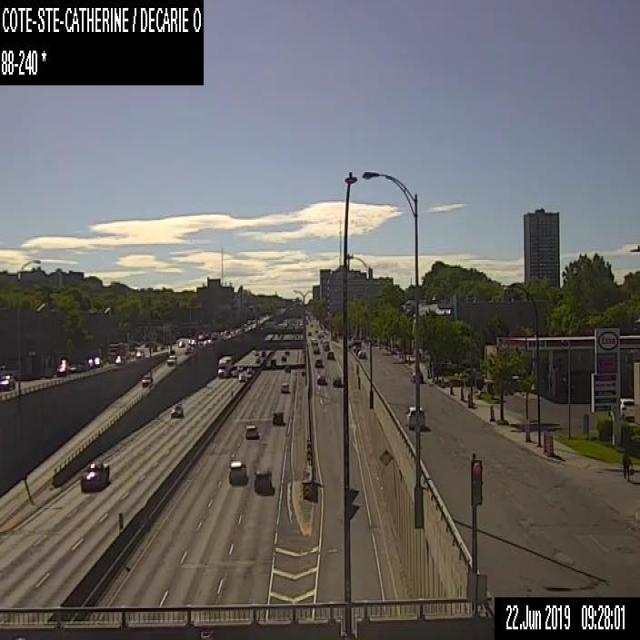pedestrian: (622, 452, 631, 480)
vehicle: (80, 461, 109, 492), (253, 466, 271, 493), (404, 405, 424, 428), (228, 461, 245, 483), (217, 356, 231, 378), (620, 398, 634, 418), (0, 374, 15, 390), (54, 360, 68, 376), (245, 424, 257, 439), (410, 368, 422, 382), (170, 404, 183, 416), (272, 410, 283, 424), (141, 372, 151, 386), (134, 348, 146, 359), (115, 352, 127, 363), (352, 339, 361, 352), (166, 354, 177, 364), (280, 381, 289, 392), (332, 376, 341, 386), (314, 357, 322, 367), (316, 374, 325, 382), (357, 350, 366, 358), (322, 338, 329, 348), (310, 338, 318, 346), (238, 372, 245, 381), (177, 340, 185, 347), (326, 351, 334, 358), (312, 345, 319, 353), (231, 370, 238, 377), (270, 358, 276, 366), (284, 364, 290, 372), (254, 356, 260, 362), (322, 343, 328, 349), (246, 367, 252, 372), (236, 365, 242, 370), (281, 355, 286, 361), (307, 330, 312, 336), (284, 350, 289, 355), (261, 350, 265, 356)
